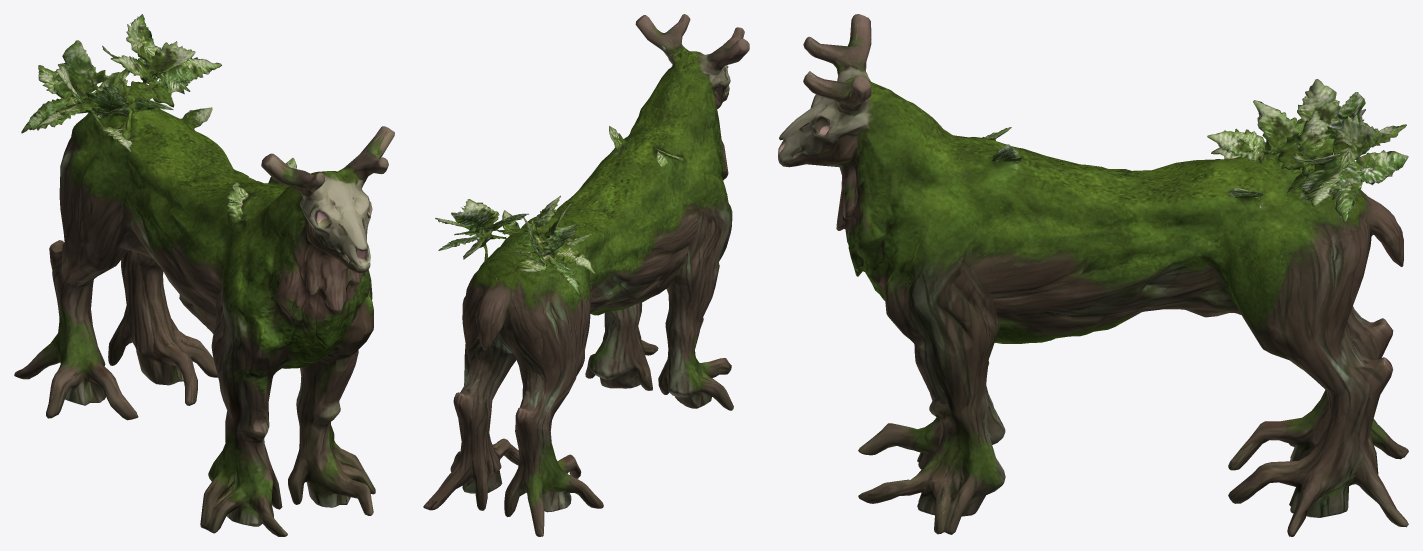
Rendered from mesh_warden_stag_a.glb.
3 views of the same model, side by side, from view 1: azimuth 30°, elevation 25°; view 2: azimuth 150°, elevation 25°; view 3: azimuth 270°, elevation 25° (orthographic). The views are drawn at different scales.
Visible parts, largest first — view 1: Mesh_0; view 2: Mesh_0; view 3: Mesh_0.
Part boxes in pixels (<box>): Mesh_0: <box>14,14,394,536</box>; Mesh_0: <box>423,14,749,536</box>; Mesh_0: <box>778,14,1408,536</box>.
Size of the model in its own units: 0.7254 by 1.49 by 1.9.
1 material, 1 textured.
